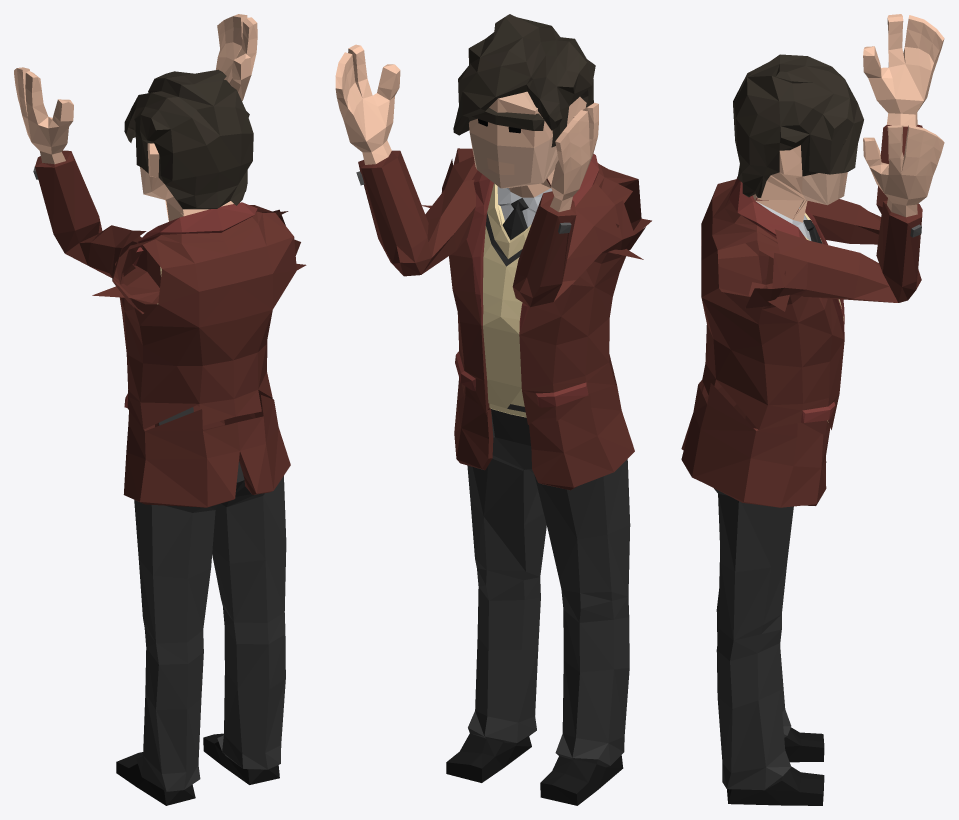
Rendered from Demon_SchoolBoy_01_fists.obj.
3 renders of one model, left to right at view 1: azimuth 30°, elevation 25°; view 2: azimuth 150°, elevation 25°; view 3: azimuth 270°, elevation 25°, orthographic. The views are drawn at different scales.
Visible parts, largest first — view 1: Demon_SchoolBoy_01_fists; view 2: Demon_SchoolBoy_01_fists; view 3: Demon_SchoolBoy_01_fists.
Boxes of the visible parts, box(x1,y1,x2,y2) form: Demon_SchoolBoy_01_fists: box(14, 14, 306, 805); Demon_SchoolBoy_01_fists: box(335, 14, 651, 805); Demon_SchoolBoy_01_fists: box(681, 14, 944, 805).
Size of the model in its own units: 0.6295 by 1.84 by 0.6132.
1 material, 1 textured.
